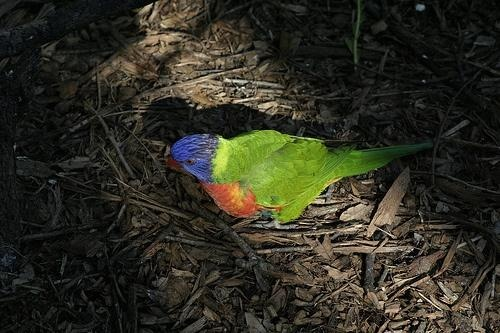bird: (160, 130, 435, 232)
